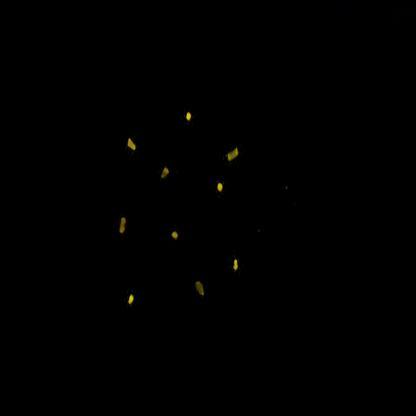PE: (161, 218, 197, 263), (111, 272, 143, 316), (210, 179, 232, 210), (183, 109, 201, 137), (231, 246, 248, 274)
PP: (105, 205, 139, 251), (190, 271, 211, 311), (223, 140, 243, 172), (158, 156, 177, 187), (120, 133, 139, 160)
